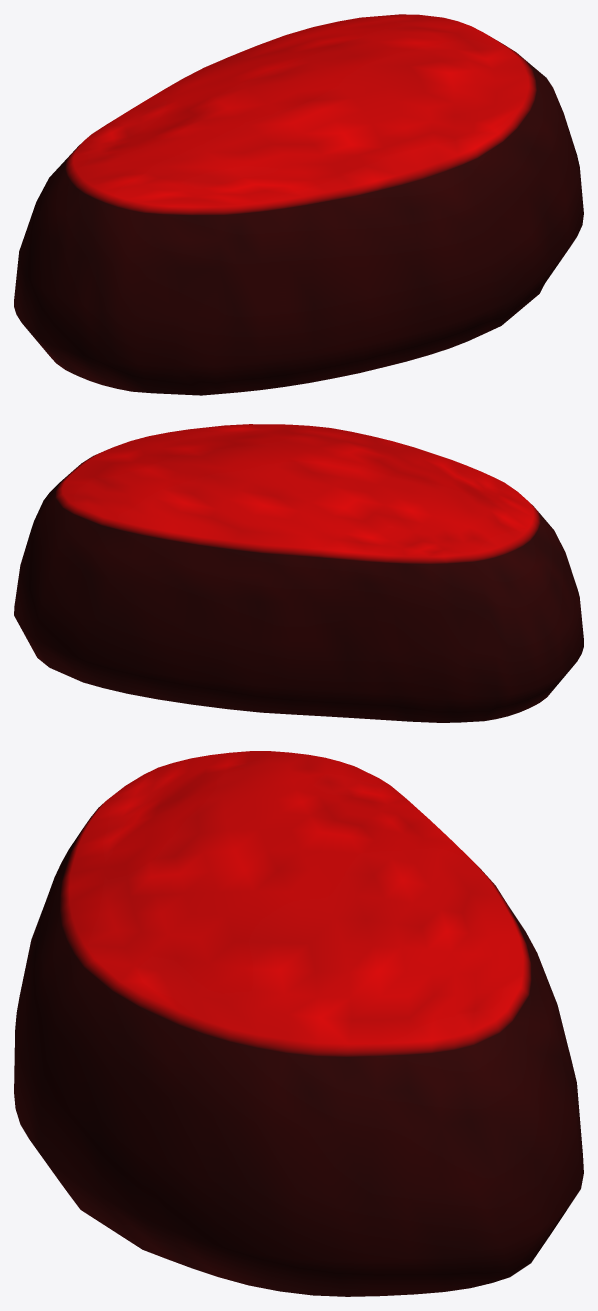
The model's file is geology-landforms-icehilltiny_v2.fbx.
The picture shows the model from 3 angles, top to bottom: view 1: azimuth 30°, elevation 25°; view 2: azimuth 150°, elevation 25°; view 3: azimuth 270°, elevation 25°; orthographic projection. The views are drawn at different scales.
Parts seen in each view (by area): view 1: IceHillTiny_v2; view 2: IceHillTiny_v2; view 3: IceHillTiny_v2.
Boxes of the visible parts, x1=… form: IceHillTiny_v2: x1=14, y1=14, x2=583, y2=395; IceHillTiny_v2: x1=14, y1=424, x2=583, y2=722; IceHillTiny_v2: x1=14, y1=751, x2=583, y2=1296.
Bounding box in the file's own units: 46.17 × 15.88 × 30.9.
